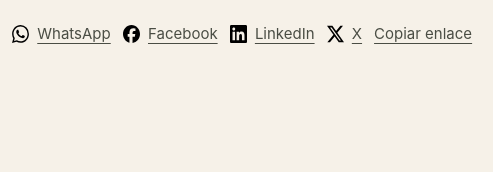
Test case: ShareRow › si el navegador niega el portapapeles, el fallo se ve y el enlace queda a la vista
Click the button "Copiar enlace" at (423, 34), box [374,12,472,56]
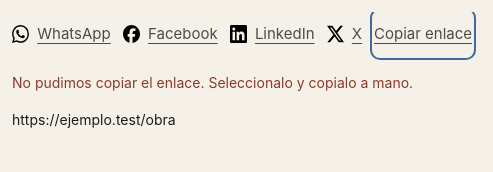
Result: the text "No pudimos copiar el enlace. Seleccionalo y copialo a mano." is shown at [12,74,413,91]
Result: the text "https://ejemplo.test/obra" is shown at [12,111,176,128]
